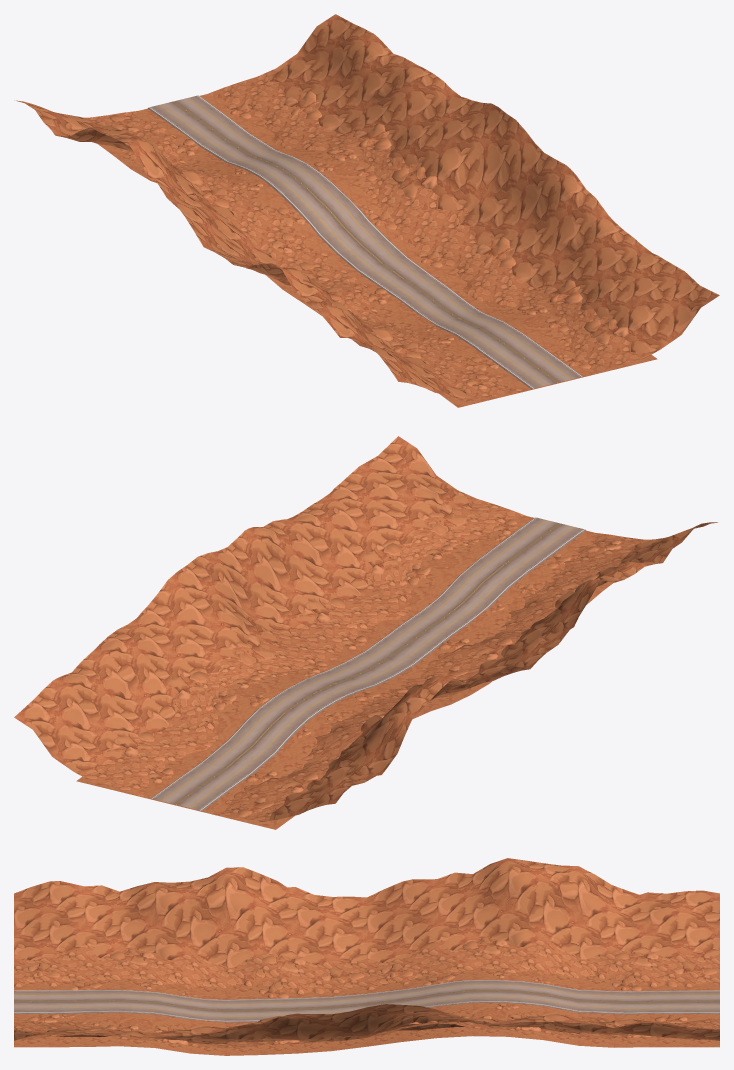
File: Desert_Original3.FBX
The picture shows the model from 3 angles, top to bottom: view 1: azimuth 30°, elevation 25°; view 2: azimuth 150°, elevation 25°; view 3: azimuth 270°, elevation 25°; orthographic projection. The views are drawn at different scales.
Visible parts, largest first — view 1: Desert_Original3_R, Desert_Original3_L, Desert_Original3_Road; view 2: Desert_Original3_R, Desert_Original3_L, Desert_Original3_Road; view 3: Desert_Original3_L, Desert_Original3_R, Desert_Original3_Road.
Part boxes in pixels (x1,y1,x2,y2): Desert_Original3_R: (200, 14, 719, 383); Desert_Original3_L: (14, 100, 557, 407); Desert_Original3_Road: (148, 95, 582, 389); Desert_Original3_R: (14, 436, 533, 805); Desert_Original3_L: (176, 522, 717, 829); Desert_Original3_Road: (151, 517, 585, 811); Desert_Original3_L: (14, 858, 719, 999); Desert_Original3_R: (14, 1002, 719, 1055); Desert_Original3_Road: (14, 980, 719, 1022).
Bounding box in the file's own units: 49.11 × 13.06 × 100.
